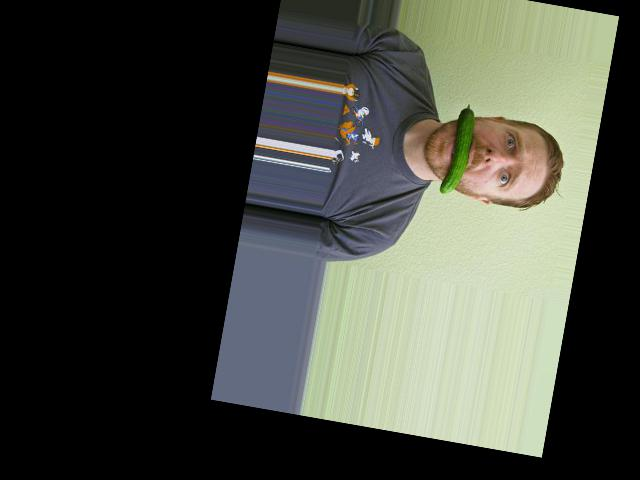cucumber: (438, 102, 477, 198)
